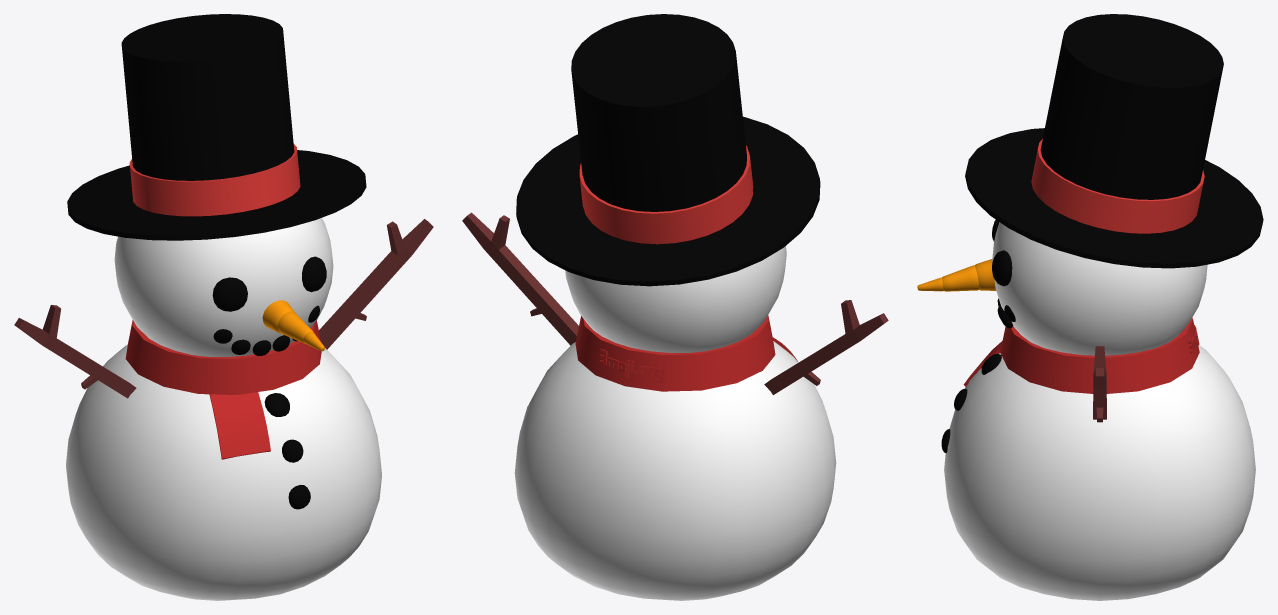
The model's file is snowman_without_snow.fbx.
The picture shows the model from 3 angles, left to right: view 1: azimuth 30°, elevation 25°; view 2: azimuth 150°, elevation 25°; view 3: azimuth 270°, elevation 25°; orthographic projection.
Parts seen in each view (by area): view 1: Cube.220; view 2: Cube.220; view 3: Cube.220.
Boxes of the visible parts, bbox=[...] form: Cube.220: bbox=[14, 14, 433, 600]; Cube.220: bbox=[462, 14, 888, 600]; Cube.220: bbox=[917, 14, 1263, 600].
Size of the model in its own units: 178 by 217 by 128.
1 material, 1 textured.
